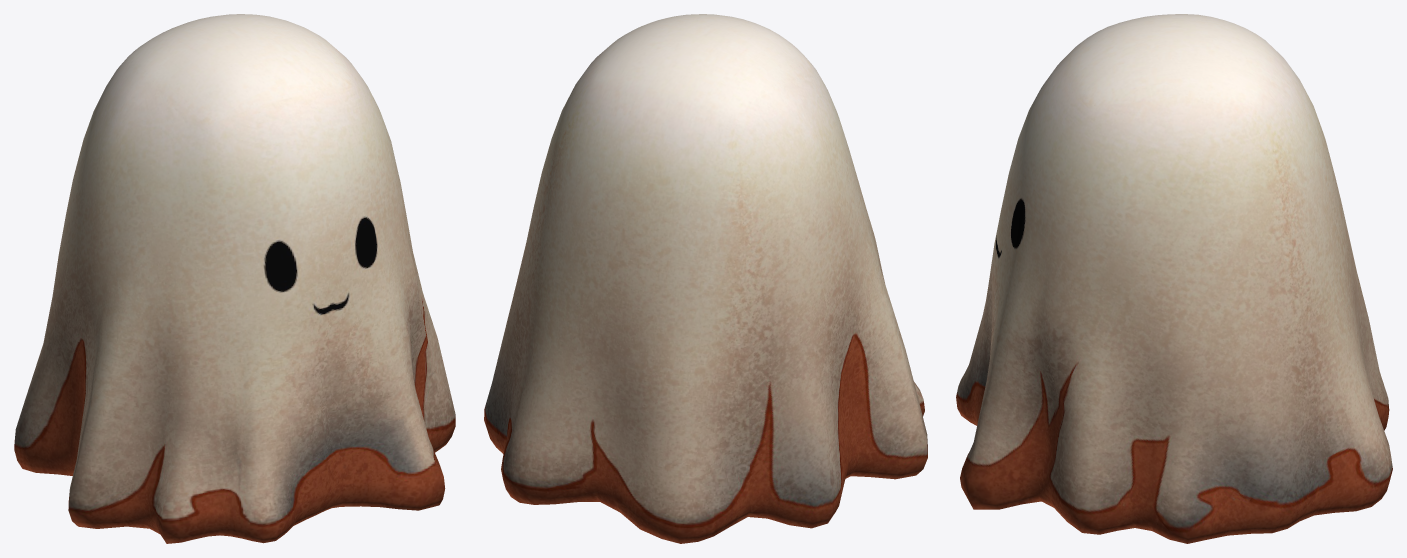
Rendered from ghost.glb.
The picture shows the model from 3 angles, left to right: view 1: azimuth 30°, elevation 25°; view 2: azimuth 150°, elevation 25°; view 3: azimuth 270°, elevation 25°; orthographic projection. The views are drawn at different scales.
Parts seen in each view (by area): view 1: Ghost.002; view 2: Ghost.002; view 3: Ghost.002.
Boxes of the visible parts, x1,y1,x2,y2 form: Ghost.002: (14,14,455,543); Ghost.002: (484,14,927,543); Ghost.002: (956,14,1392,543).
Size of the model in its own units: 2.75 by 3.03 by 2.64.
1 material, 1 textured.
